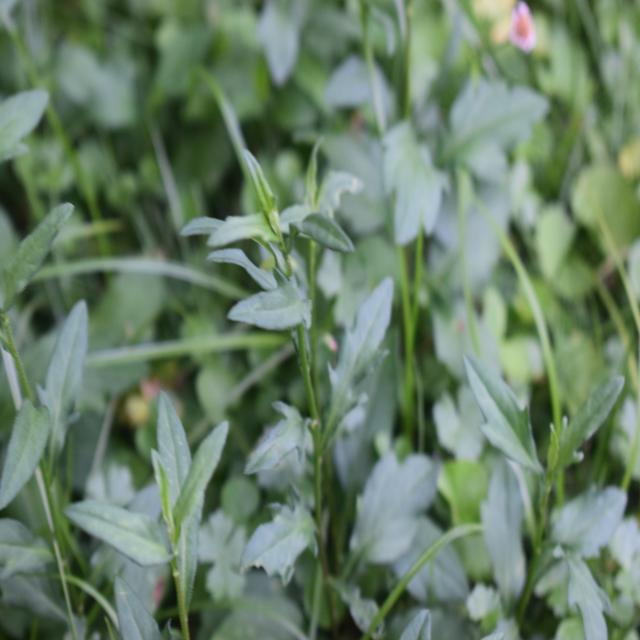Indian aster: (189, 126, 384, 580)
